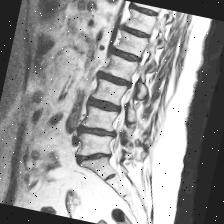disc: (103, 41, 148, 68), (117, 20, 155, 43), (126, 2, 163, 22)
hdisc: (72, 144, 118, 173), (82, 90, 127, 119), (72, 120, 118, 142), (94, 69, 136, 92)
